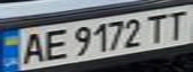1: (90, 20, 112, 53)
2: (121, 16, 148, 48)
7: (106, 17, 127, 51)
9: (69, 24, 93, 58)
A: (15, 29, 48, 65)
E: (39, 27, 72, 62)
T: (160, 7, 193, 39), (142, 11, 172, 44)
